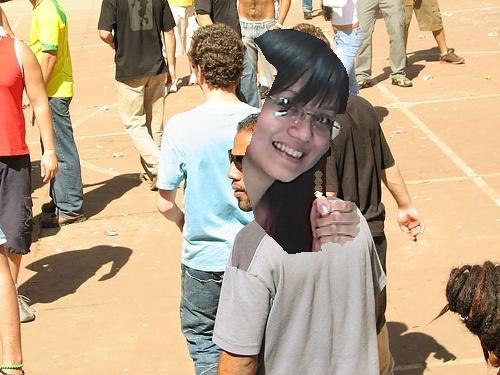tampered: (243, 29, 360, 254)
